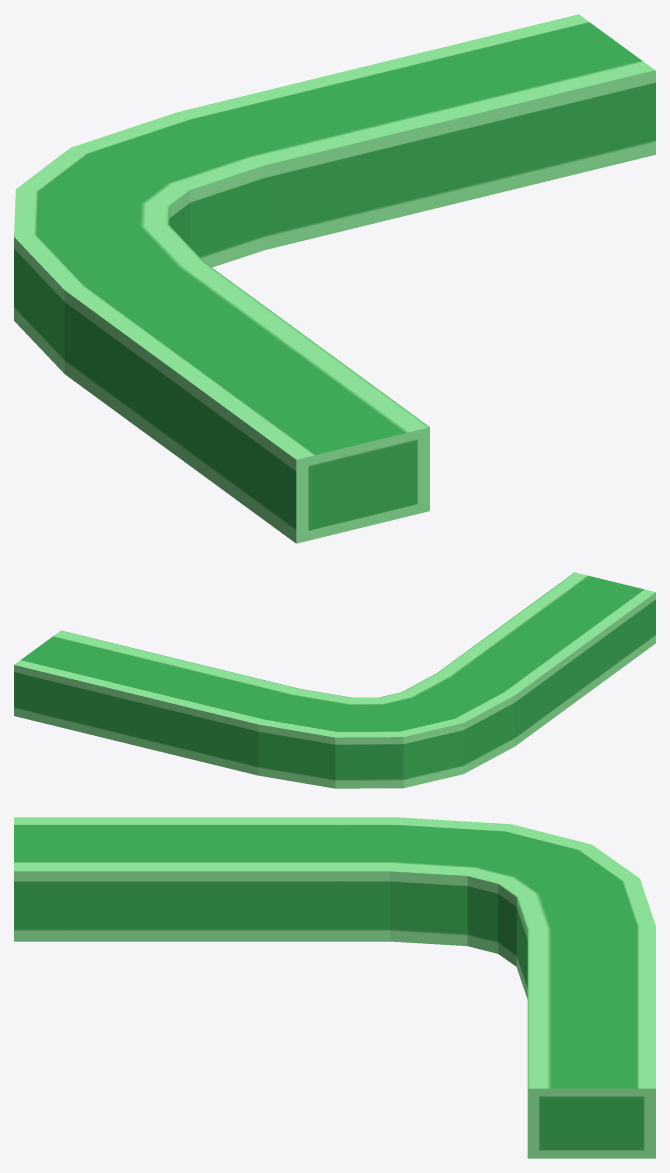
File: bian02.FBX
The picture shows the model from 3 angles, top to bottom: view 1: azimuth 30°, elevation 25°; view 2: azimuth 150°, elevation 25°; view 3: azimuth 270°, elevation 25°; orthographic projection. The views are drawn at different scales.
Parts seen in each view (by area): view 1: guai; view 2: guai; view 3: guai.
Boxes of the visible parts, x1=… form: guai: x1=14, y1=14, x2=655, y2=543; guai: x1=14, y1=572, x2=655, y2=788; guai: x1=14, y1=817, x2=655, y2=1158.
Size of the model in its own units: 25 by 3 by 25.
